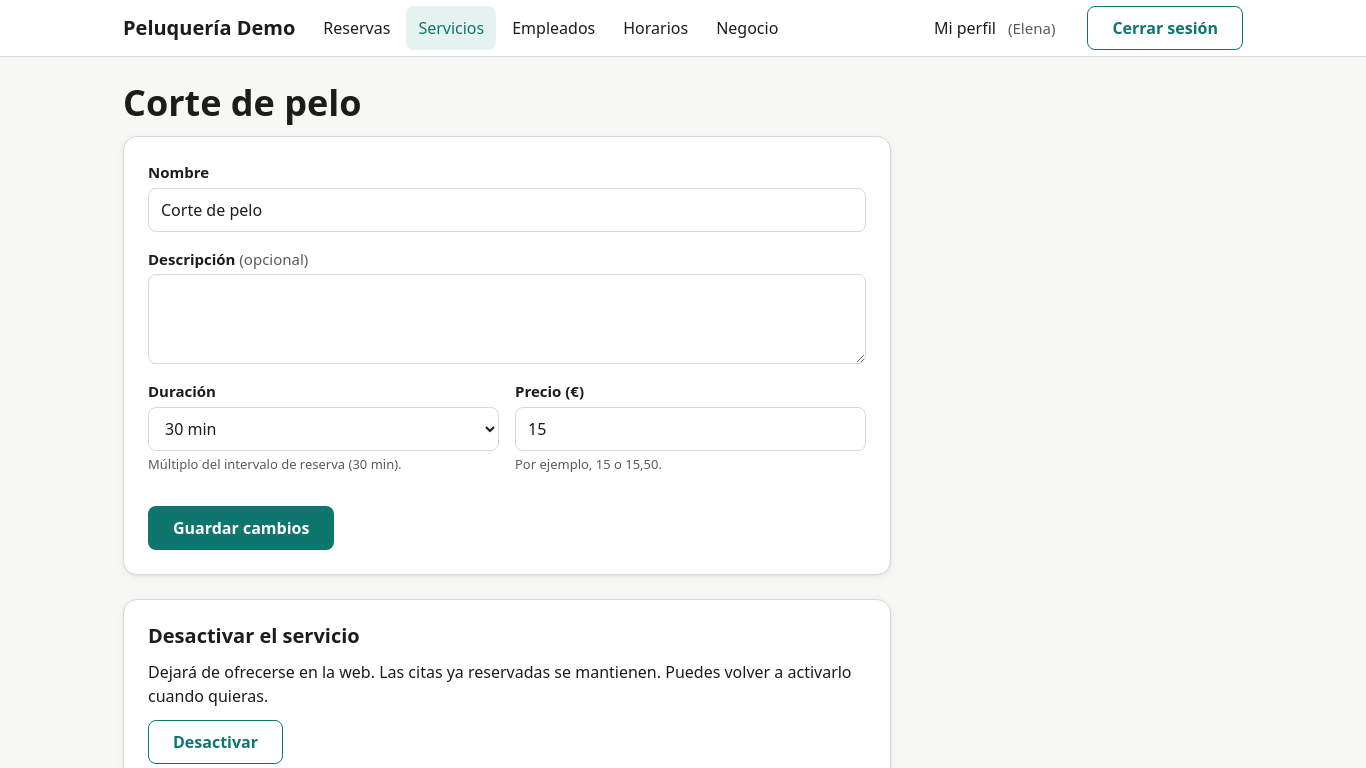
servicios (CU-016) › desactiva un servicio tras confirmarlo
The image size is (1366, 768).
Click the button "Desactivar" at {"x": 216, "y": 742}, box [148,720,283,764]
(page scrolled)
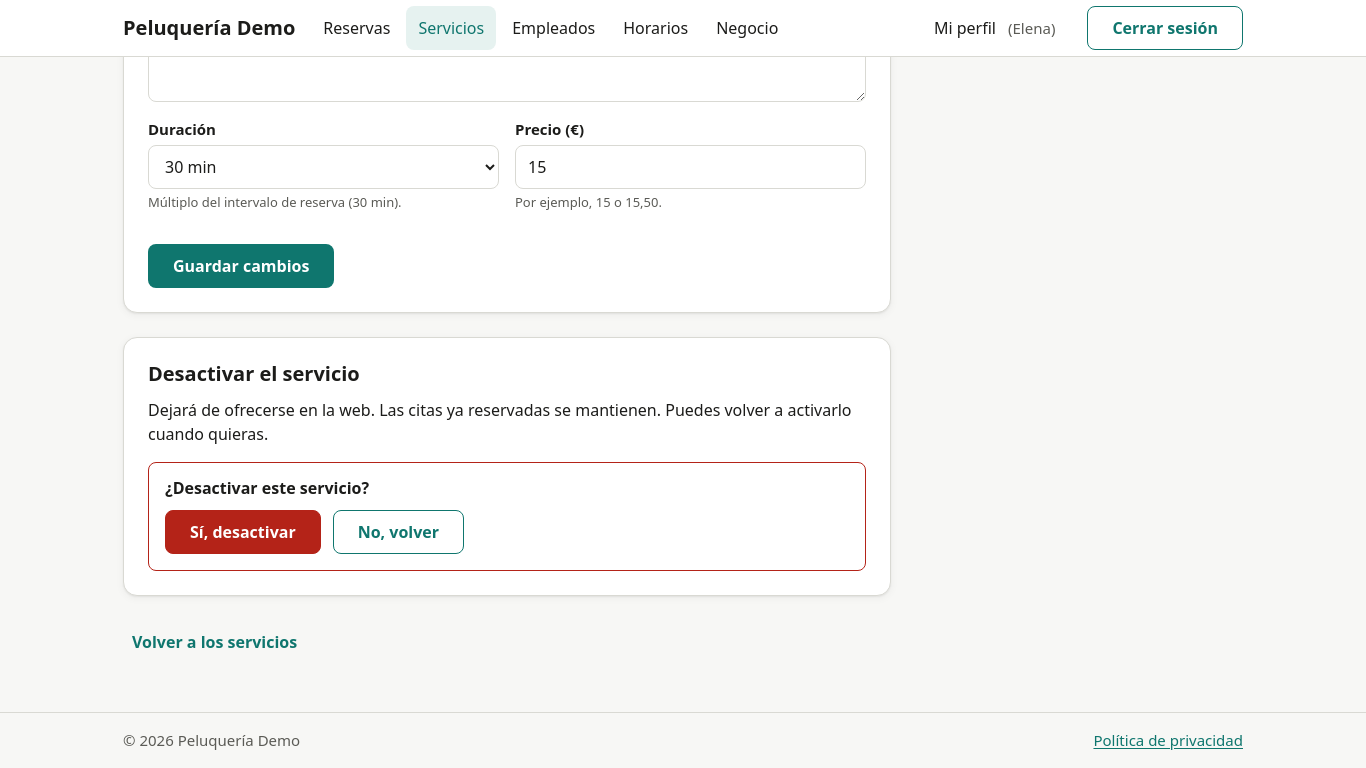
Click the button "Sí, desactivar" at {"x": 243, "y": 532}, box [165,510,321,554]
(page scrolled)
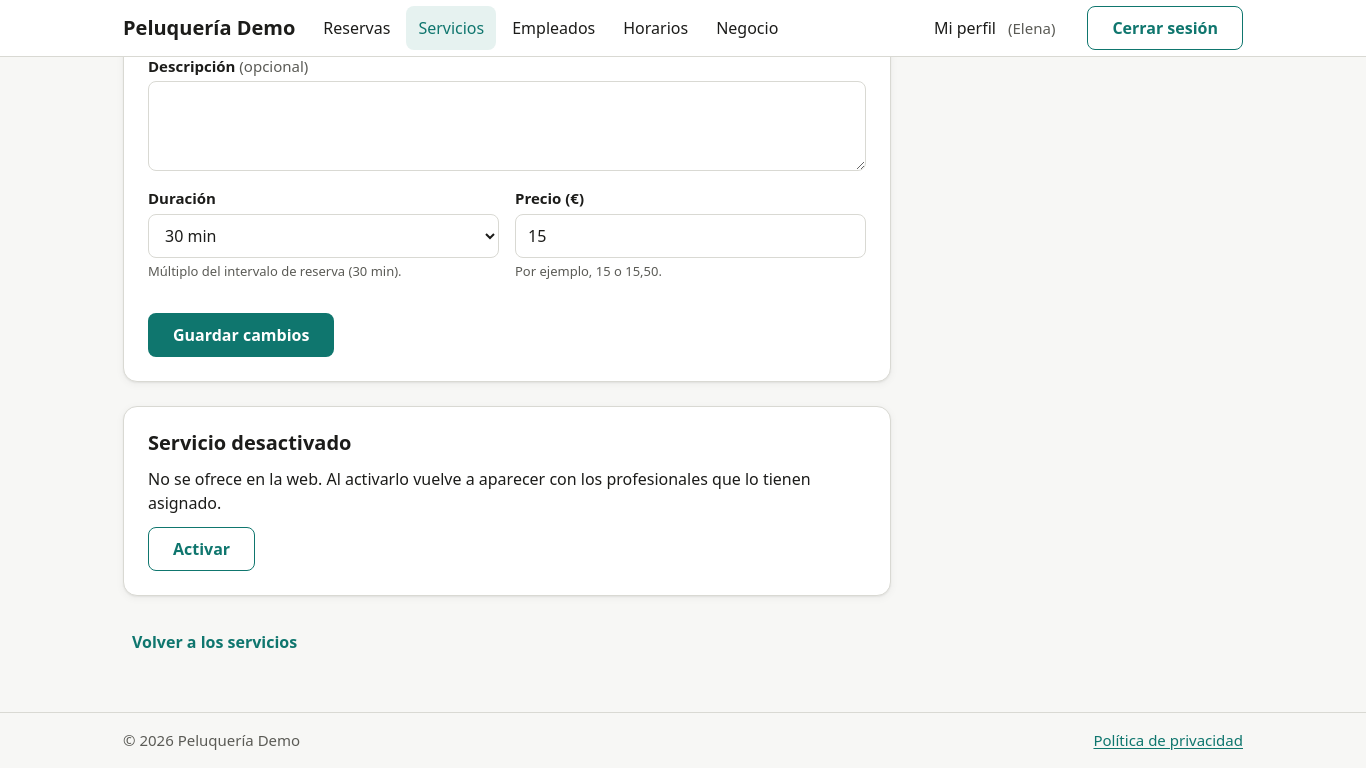
Result: the heading "Servicio desactivado" is shown at [148,429,351,456]
